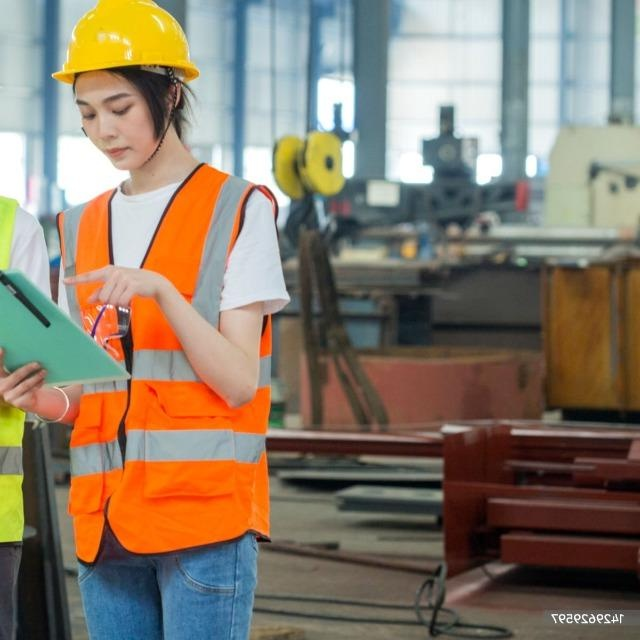Con_Casco: (56, 0, 198, 173)
Con_Chaleco: (60, 172, 272, 560)
